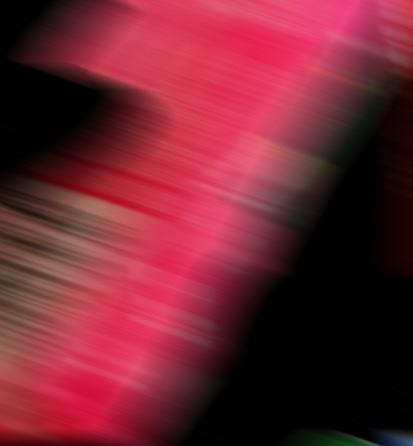moby chocolate: (400, 0, 413, 291)
palmolive soap: (0, 0, 413, 446)
piattos cheese: (400, 438, 413, 446)
sprite: (0, 438, 413, 446)
